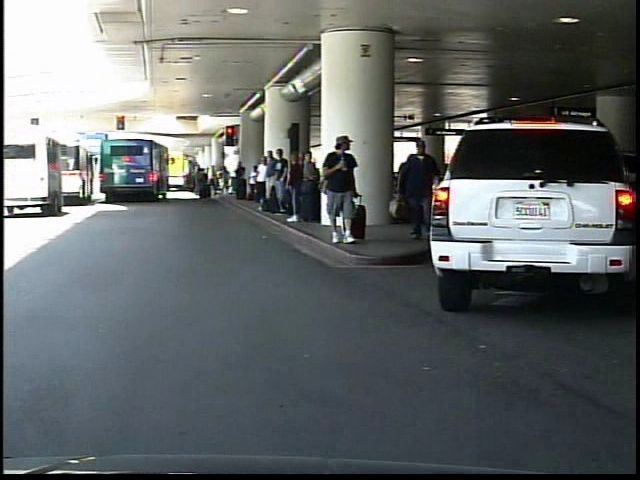person: (395, 132, 443, 248), (322, 131, 365, 246)
